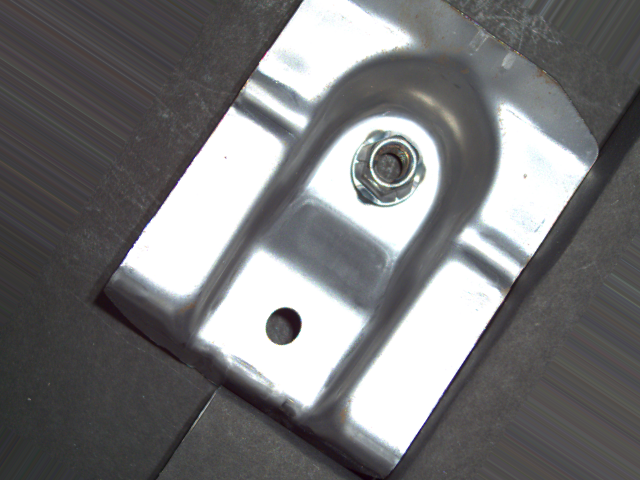good: (349, 127, 430, 209)
